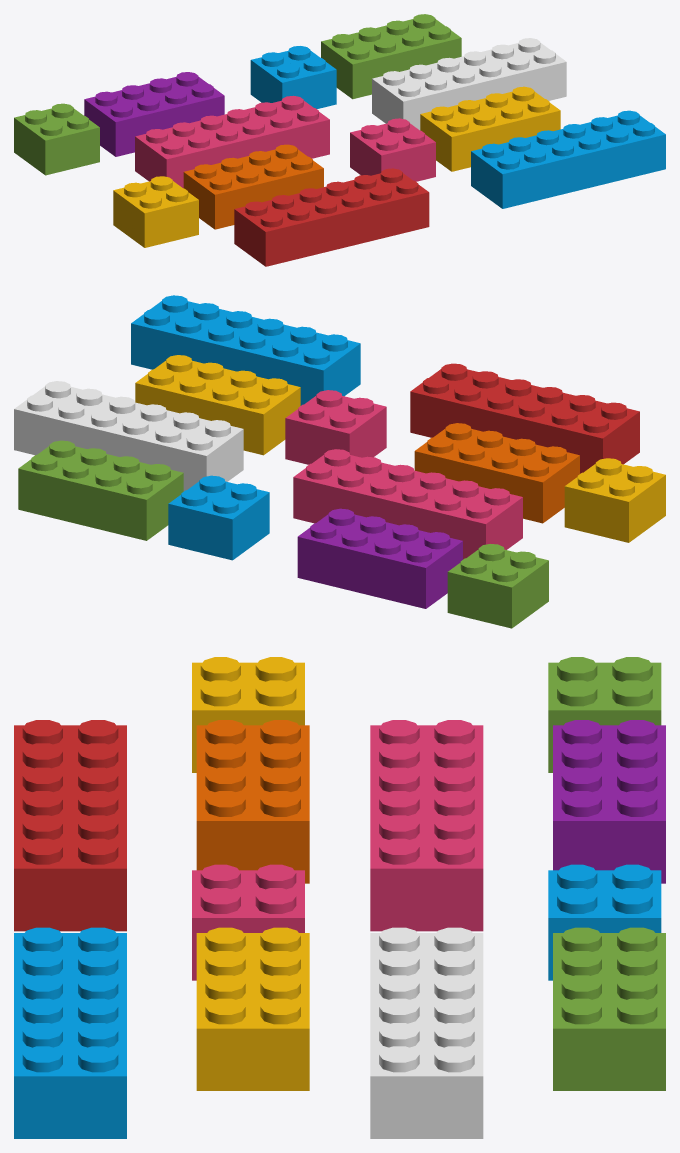
File: Block01.FBX
The picture shows the model from 3 angles, top to bottom: view 1: azimuth 30°, elevation 25°; view 2: azimuth 150°, elevation 25°; view 3: azimuth 270°, elevation 25°; orthographic projection. The views are drawn at different scales.
Visible parts, largest first — view 1: Block; view 2: Block; view 3: Block.
Boxes of the visible parts, x1,y1,x2,y2 form: Block: (14, 14, 665, 266); Block: (14, 295, 665, 628); Block: (14, 657, 665, 1138).
Bounding box in the file's own units: 780 × 63.42 × 519.
